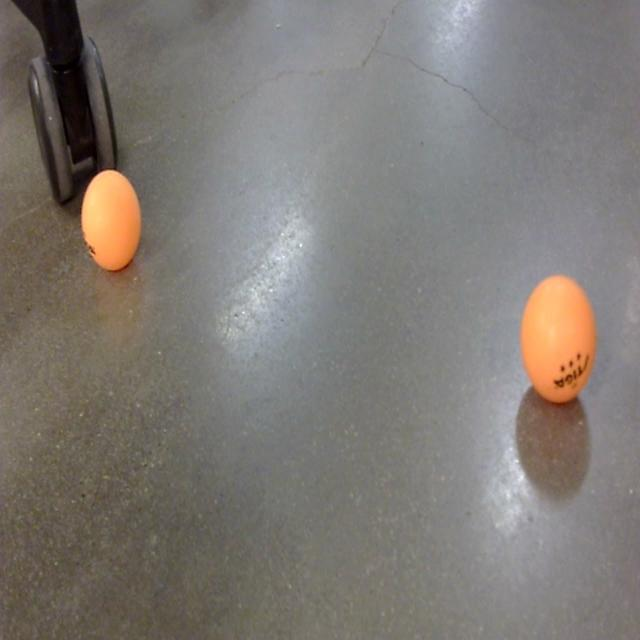ball: (520, 274, 596, 405), (79, 166, 144, 273)
